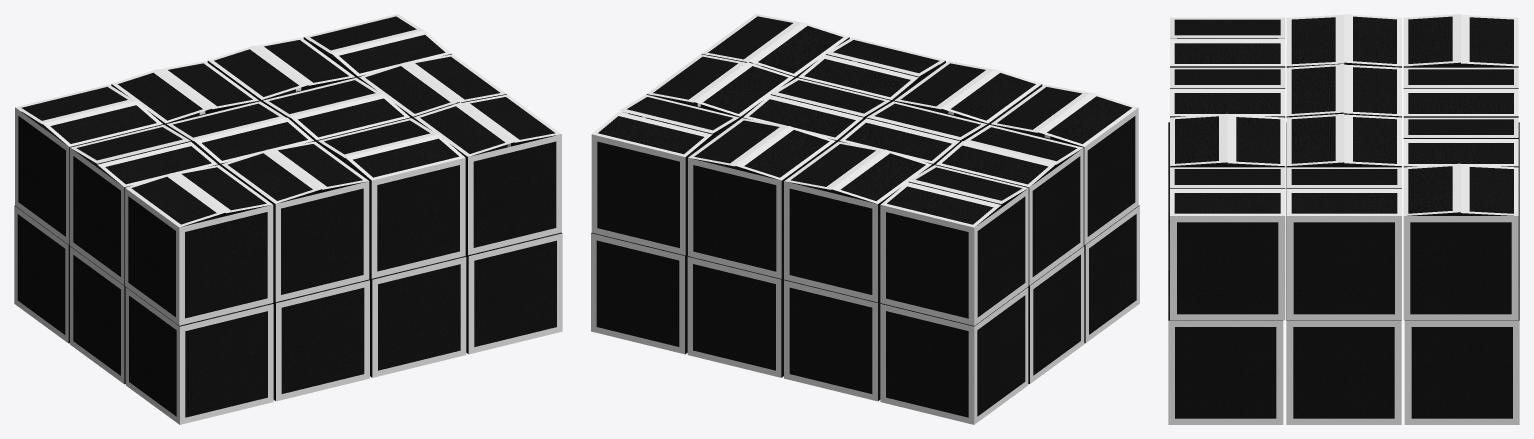
Rendered from PileOfBoxes.FBX.
3 views of the same model, side by side, from view 1: azimuth 30°, elevation 25°; view 2: azimuth 150°, elevation 25°; view 3: azimuth 270°, elevation 25° (orthographic). The views are drawn at different scales.
Visible parts, largest first — view 1: PlieOf Boxes; view 2: PlieOf Boxes; view 3: PlieOf Boxes.
Part boxes in pixels (<box>): PlieOf Boxes: <box>14,14,562,424</box>; PlieOf Boxes: <box>591,14,1139,424</box>; PlieOf Boxes: <box>1168,14,1519,424</box>.
Size of the model in its own units: 161 by 80.26 by 120.
